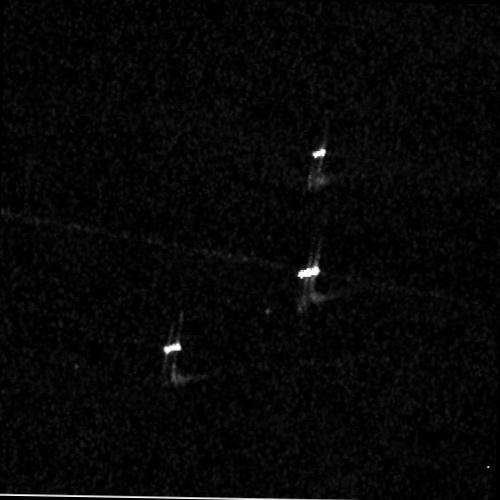ship: (297, 266, 321, 279), (163, 341, 183, 355), (312, 147, 327, 160)
